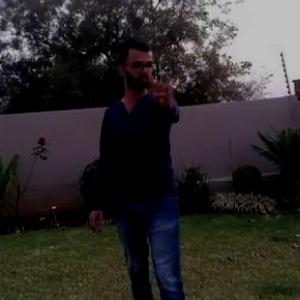takeoff-hand: (145, 65, 178, 114)
